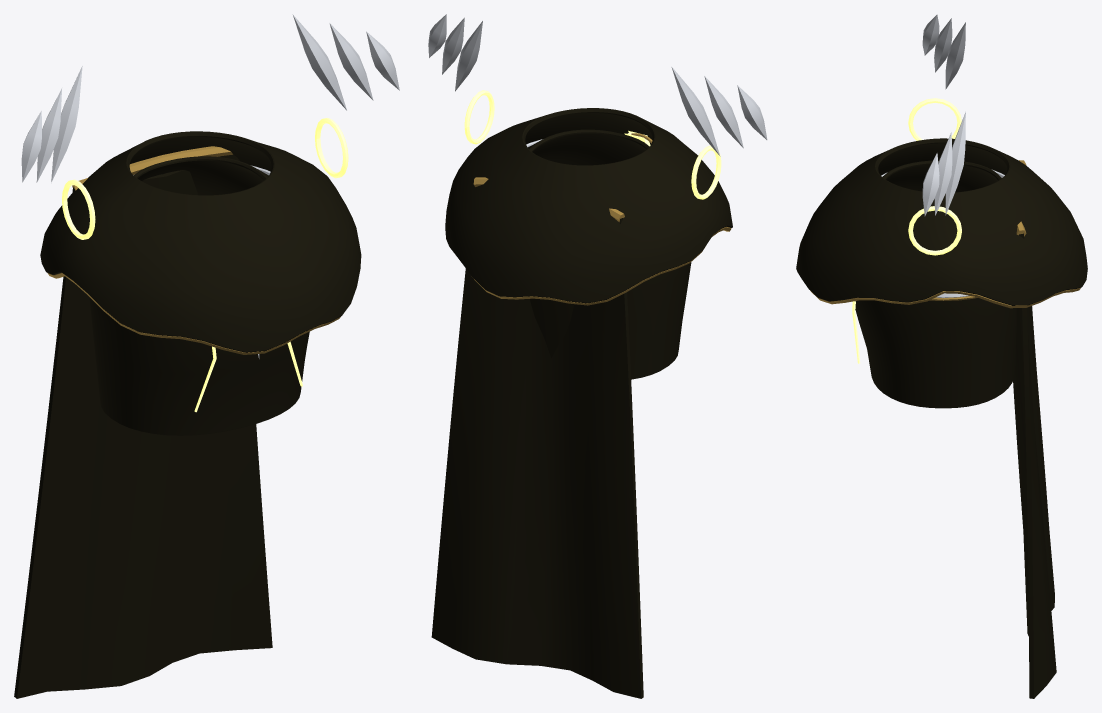
Rendered from esc_final_equation_armor.glb.
3 views of the same model, side by side, from view 1: azimuth 30°, elevation 25°; view 2: azimuth 150°, elevation 25°; view 3: azimuth 270°, elevation 25° (orthographic). The views are drawn at different scales.
Visible parts, largest first — view 1: esc_final_equation_armor; view 2: esc_final_equation_armor; view 3: esc_final_equation_armor.
Part boxes in pixels (x1,y1,x2,y2): esc_final_equation_armor: [14, 14, 399, 698]; esc_final_equation_armor: [428, 14, 767, 698]; esc_final_equation_armor: [796, 14, 1087, 698].
Bounding box in the file's own units: 0.9251 × 1.56 × 0.7093.
